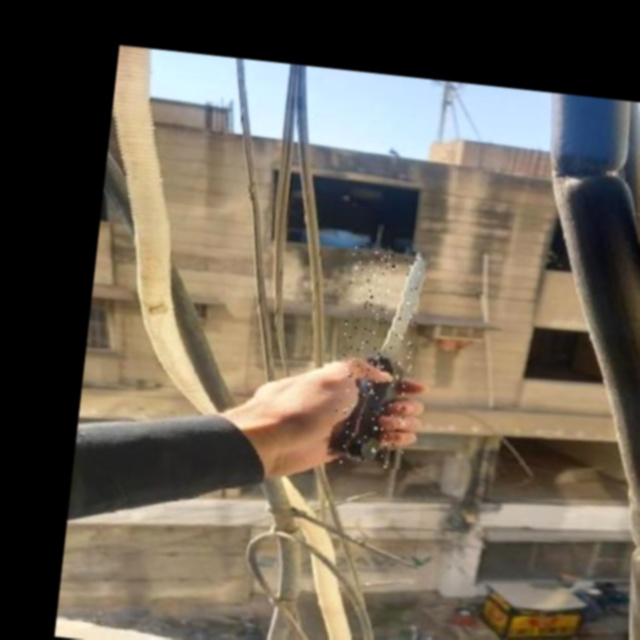Sharp-Object: (331, 242, 426, 469)
